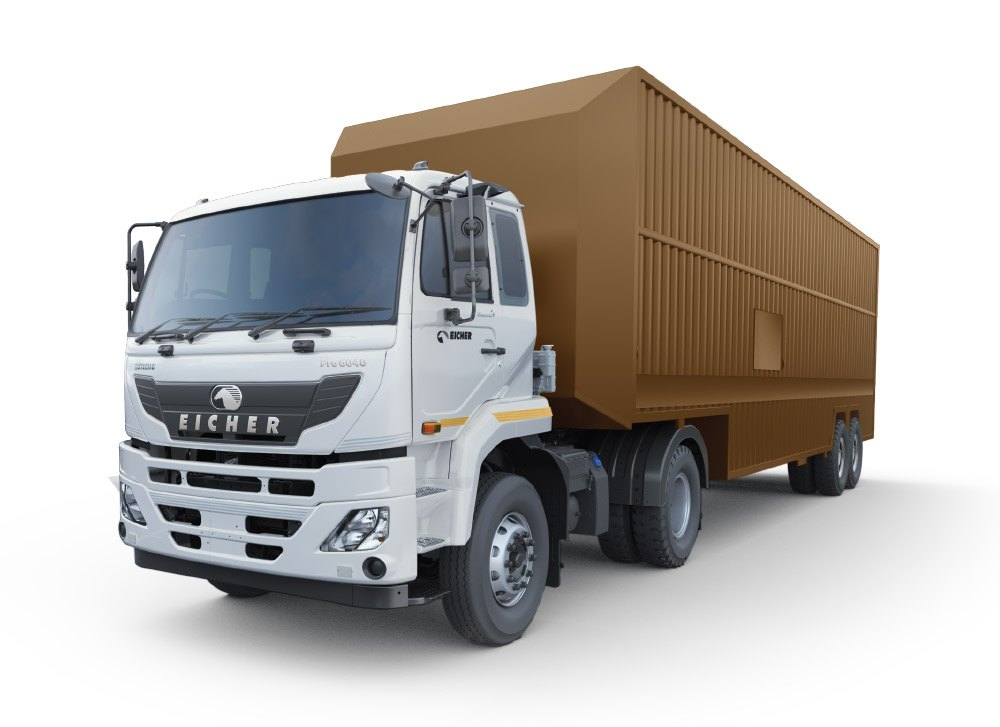truck: (117, 63, 883, 648)
